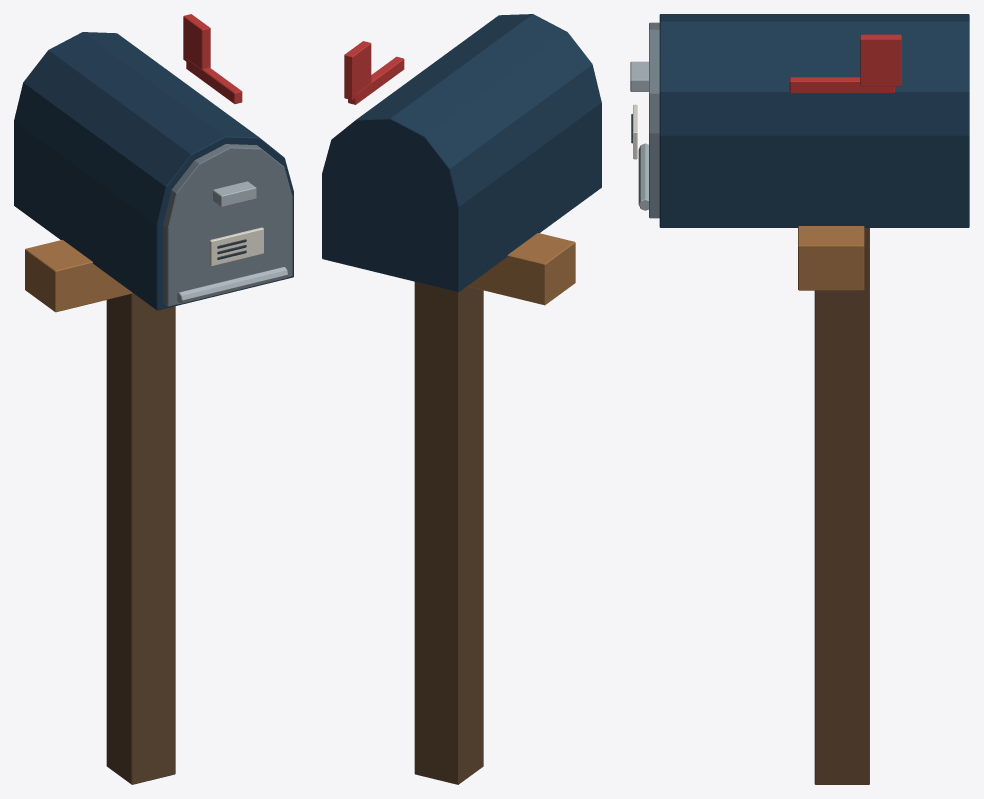
File: b14_curbside_arched_mailbox.glb
3 renders of one model, left to right at view 1: azimuth 30°, elevation 25°; view 2: azimuth 150°, elevation 25°; view 3: azimuth 270°, elevation 25°, orthographic. The views are drawn at different scales.
Parts seen in each view (by area): view 1: b14_curbside_arched_mailbox; view 2: b14_curbside_arched_mailbox; view 3: b14_curbside_arched_mailbox.
Boxes of the visible parts, bbox=[...] form: b14_curbside_arched_mailbox: bbox=[14, 14, 293, 784]; b14_curbside_arched_mailbox: bbox=[322, 14, 601, 784]; b14_curbside_arched_mailbox: bbox=[630, 14, 969, 784].
Bounding box in the file's own units: 0.48 × 1.55 × 0.613.
